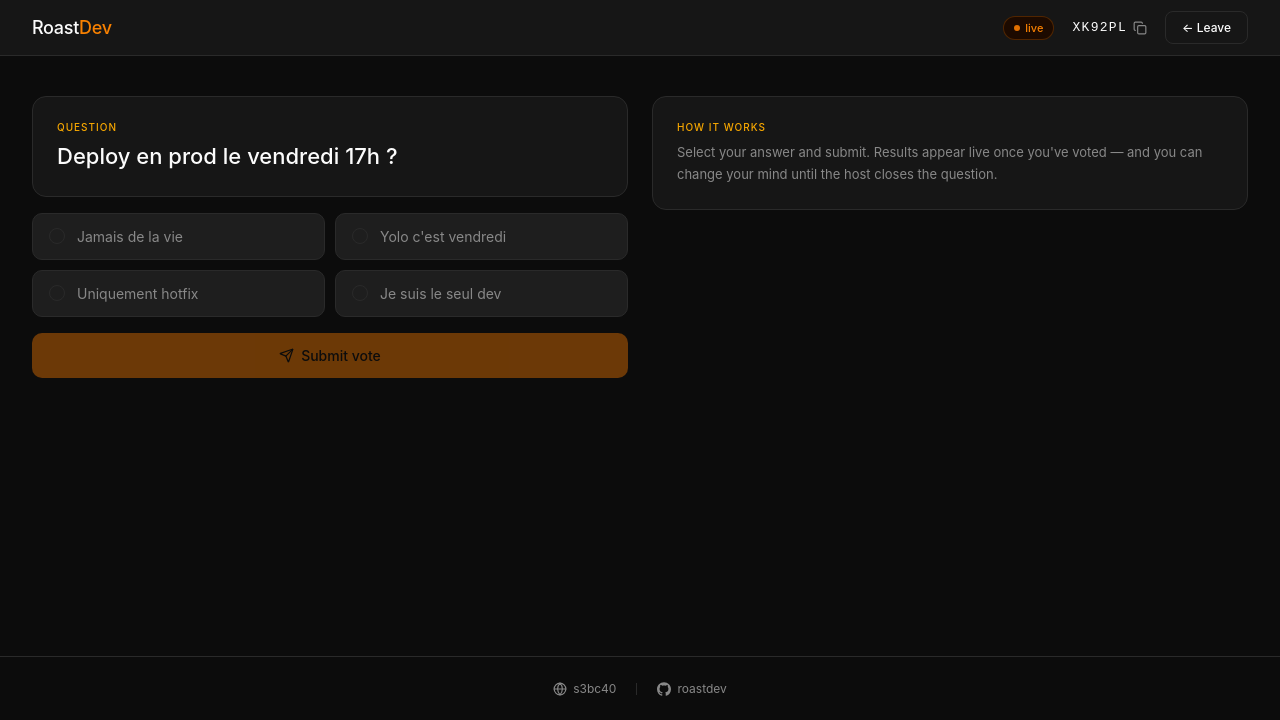
Test: Participant › selecting an answer adds the selected class and enables submit
This screenshot has width=1280, height=720.
What coordinates should you click on to do the following:
click the text "Jamais de la vie"
I would click on:
 (178, 236)
Its box is [32,213,325,260].
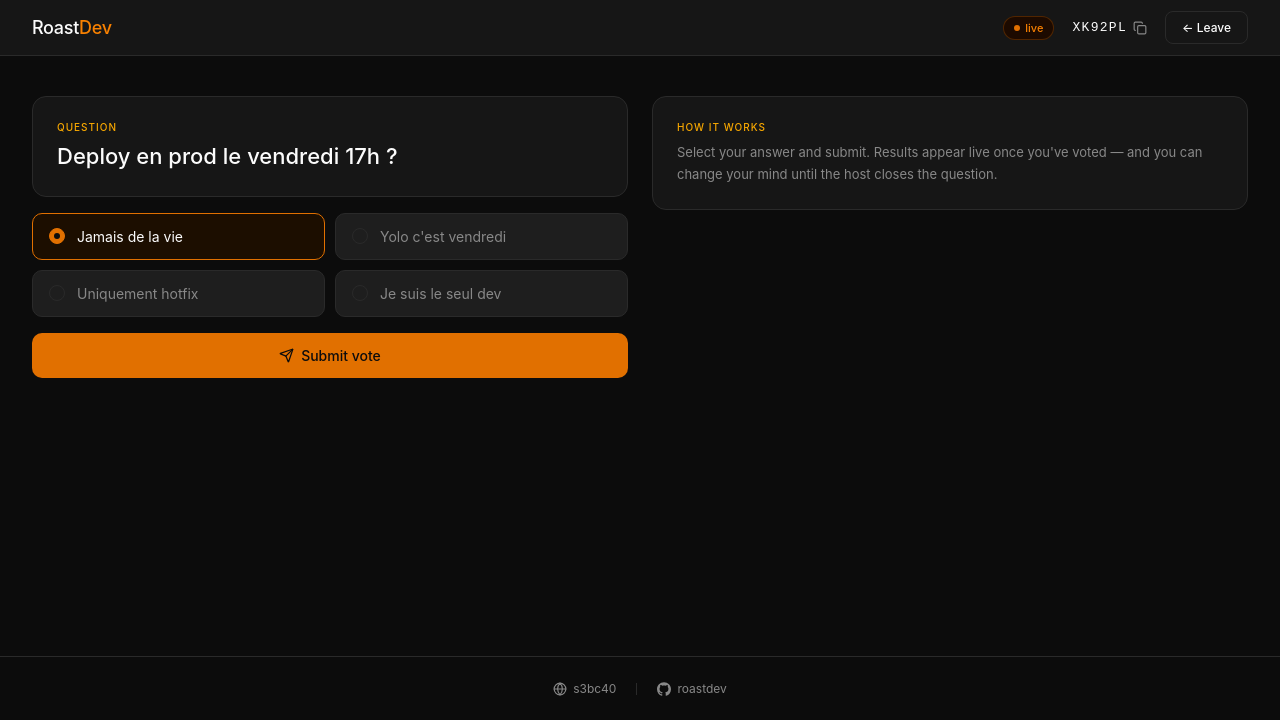
Now the button "Submit vote" is enabled, box [32,333,628,378]
